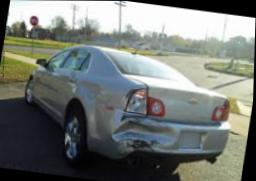Bumper: (82, 100, 178, 158)
Fender: (73, 70, 135, 109)
Light: (124, 86, 148, 116)
